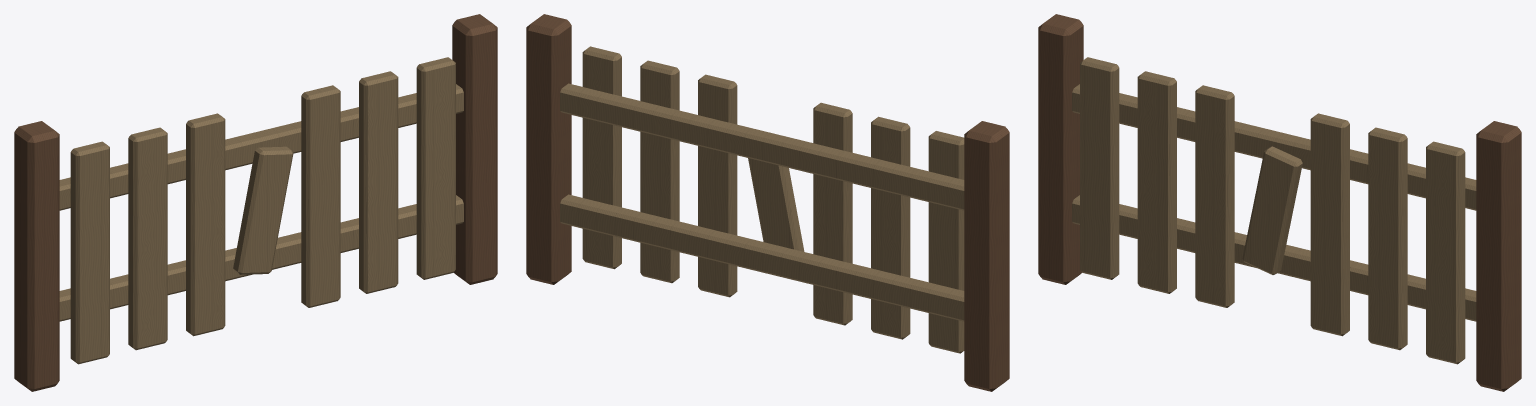
The model's file is fence_panel.glb.
The picture shows the model from 3 angles, left to right: view 1: azimuth 30°, elevation 25°; view 2: azimuth 150°, elevation 25°; view 3: azimuth 330°, elevation 25°; orthographic projection.
Parts seen in each view (by area): view 1: DD_fence_panel; view 2: DD_fence_panel; view 3: DD_fence_panel.
Part boxes in pixels (x1,y1,x2,y2): DD_fence_panel: (14,14,497,391); DD_fence_panel: (526,14,1009,391); DD_fence_panel: (1038,14,1521,391).
Bounding box in the file's own units: 2.04 × 1.06 × 0.155.
2 materials, 2 textured.
